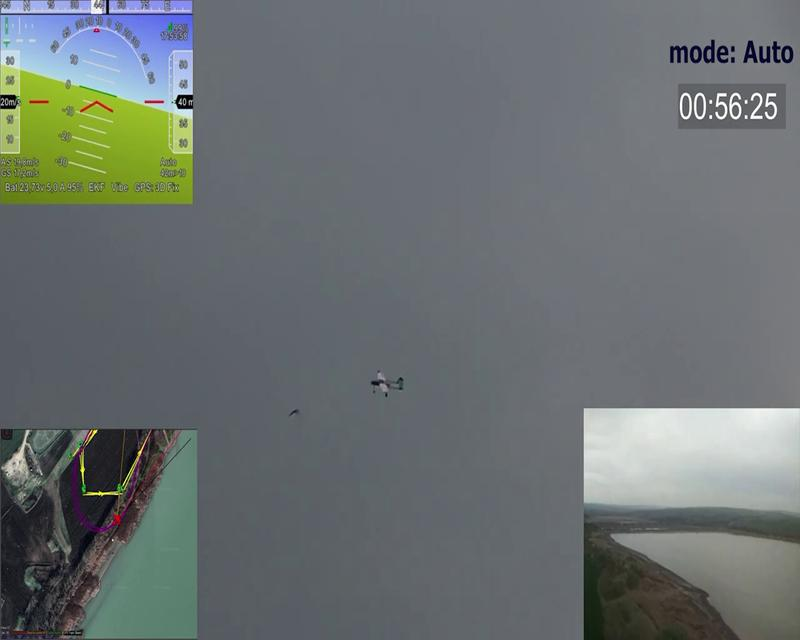UAV: (0, 0, 194, 204), (368, 370, 406, 397)
